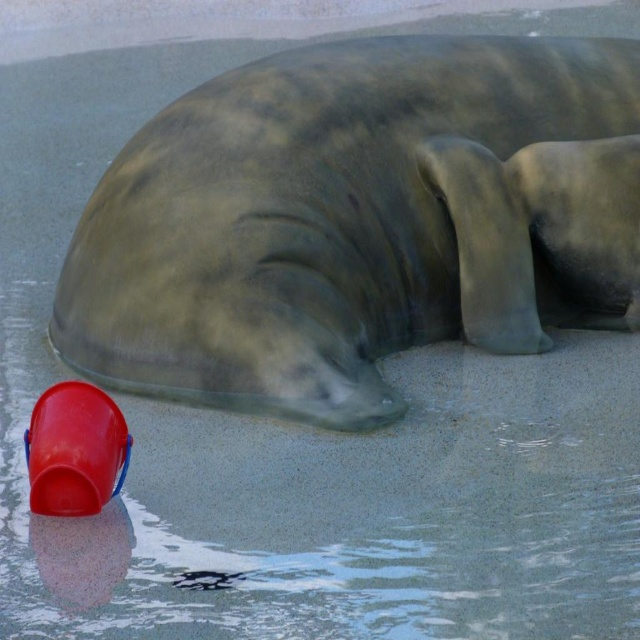Harbor seal: (48, 63, 597, 459)
